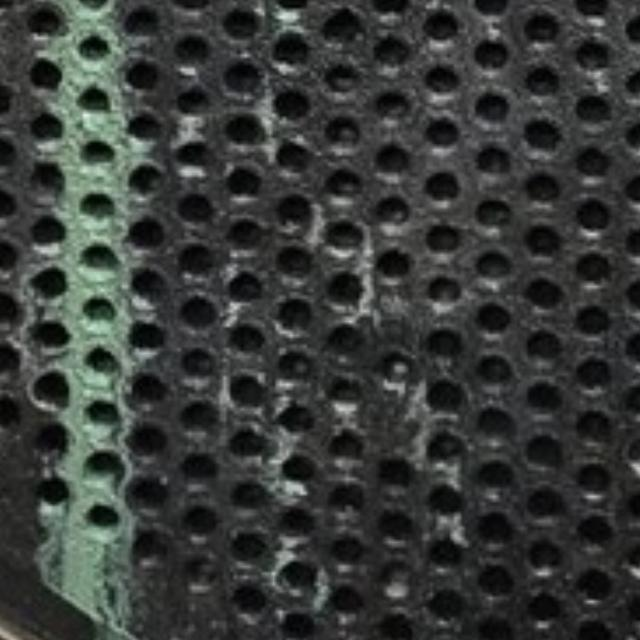Hole: (72, 80, 116, 120), (73, 294, 117, 334), (32, 470, 76, 510), (127, 262, 171, 302), (180, 398, 224, 438), (179, 290, 223, 330), (228, 372, 272, 412), (228, 318, 272, 358), (275, 242, 319, 282), (275, 190, 319, 230), (328, 480, 372, 520), (375, 554, 419, 594), (376, 452, 420, 492), (524, 8, 567, 48), (271, 28, 314, 68), (176, 80, 219, 120), (172, 32, 215, 72), (126, 366, 169, 406), (323, 372, 366, 412), (378, 504, 421, 544), (324, 266, 367, 306), (373, 30, 417, 69), (120, 3, 164, 42), (82, 498, 126, 537), (25, 106, 69, 145), (79, 392, 123, 431), (24, 211, 68, 250), (25, 156, 69, 195), (221, 55, 265, 94), (122, 56, 166, 95), (128, 419, 172, 458), (127, 314, 171, 353), (127, 214, 171, 253), (123, 109, 167, 148), (181, 448, 225, 487), (180, 345, 224, 384), (180, 553, 224, 592), (180, 499, 224, 538), (228, 526, 272, 565), (229, 473, 273, 512), (230, 423, 274, 462), (275, 501, 319, 540), (277, 448, 321, 487), (276, 397, 320, 436), (274, 345, 318, 384), (275, 293, 319, 332), (326, 528, 370, 567), (325, 428, 369, 467), (373, 347, 417, 386), (373, 245, 417, 284), (372, 191, 416, 230), (372, 85, 416, 124), (573, 36, 616, 75), (421, 7, 464, 46), (323, 7, 366, 46), (75, 31, 118, 70), (22, 3, 65, 42), (421, 60, 464, 99), (470, 85, 513, 124), (523, 60, 566, 99), (83, 447, 126, 486), (78, 339, 121, 378), (75, 187, 118, 226), (75, 132, 118, 171), (29, 420, 72, 459), (29, 370, 72, 409), (29, 318, 72, 357), (129, 472, 172, 511), (175, 189, 218, 228), (226, 270, 269, 309), (224, 214, 267, 253), (223, 162, 266, 201), (223, 109, 266, 148), (325, 581, 368, 620), (323, 214, 366, 253), (325, 164, 368, 203), (322, 114, 365, 153), (321, 59, 364, 98), (423, 114, 466, 153), (471, 34, 515, 72), (222, 6, 266, 44), (568, 90, 612, 128), (25, 262, 69, 300), (132, 528, 176, 566), (227, 582, 271, 620), (277, 554, 321, 592), (273, 136, 317, 174), (373, 140, 417, 178), (20, 56, 63, 94), (77, 238, 120, 276), (124, 160, 167, 198), (177, 238, 220, 276), (174, 138, 217, 176), (270, 84, 313, 122), (323, 320, 366, 358), (422, 166, 465, 204), (423, 376, 468, 412), (576, 566, 617, 604), (475, 142, 517, 179), (573, 196, 615, 233), (523, 484, 566, 520), (523, 589, 564, 626), (475, 404, 517, 440), (525, 328, 564, 366), (523, 115, 563, 151), (525, 276, 564, 312), (574, 142, 614, 177), (428, 326, 469, 360), (276, 608, 319, 640), (575, 463, 614, 498), (526, 540, 566, 574), (422, 428, 463, 461), (428, 586, 467, 620), (424, 220, 464, 253), (524, 433, 564, 466), (473, 249, 514, 281), (573, 514, 615, 545), (474, 302, 512, 336), (573, 302, 613, 334), (476, 458, 516, 490), (575, 410, 615, 442), (572, 356, 609, 390), (474, 195, 513, 227), (577, 249, 616, 281), (426, 484, 465, 516), (477, 351, 514, 384), (427, 533, 465, 565), (477, 564, 515, 596), (522, 381, 560, 412), (526, 170, 564, 200), (428, 276, 466, 306), (526, 225, 562, 255), (479, 513, 513, 544), (379, 616, 415, 640), (577, 623, 613, 640)
